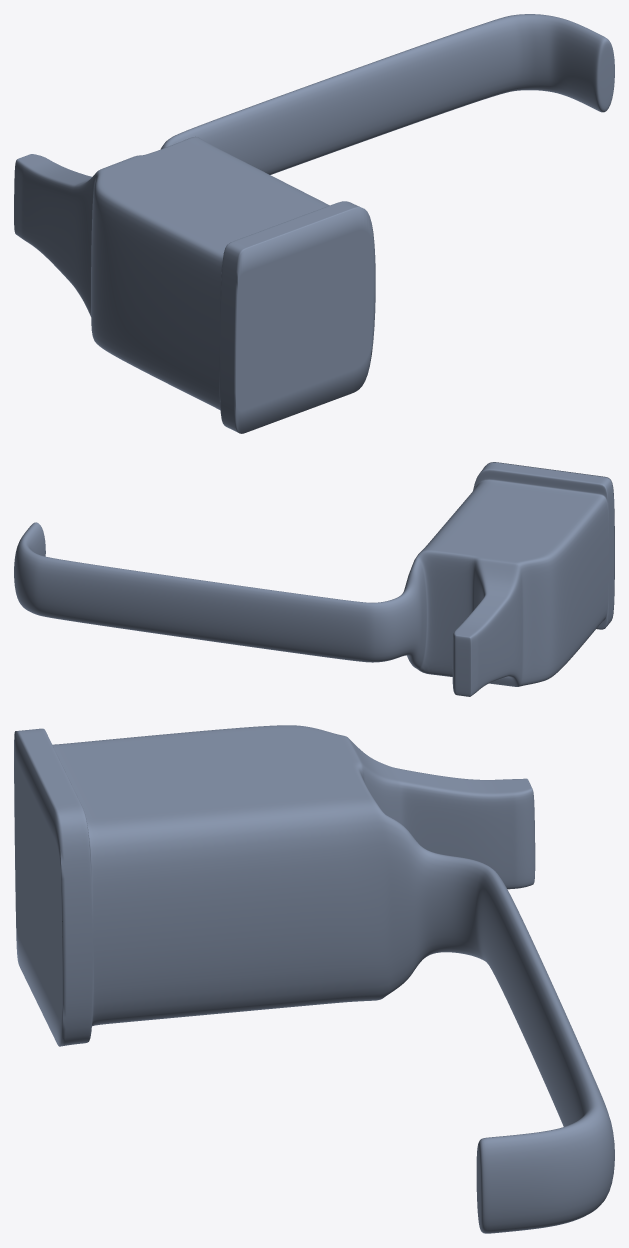
The picture shows the model from 3 angles, top to bottom: view 1: azimuth 30°, elevation 25°; view 2: azimuth 150°, elevation 25°; view 3: azimuth 270°, elevation 25°; orthographic projection. The views are drawn at different scales.
Parts seen in each view (by area): view 1: Cube.041; view 2: Cube.041; view 3: Cube.041.
Part boxes in pixels (left/top/right/bottom): Cube.041: left=14, top=14, right=614, bottom=433; Cube.041: left=14, top=462, right=614, bottom=696; Cube.041: left=14, top=725, right=614, bottom=1233.
Bounding box in the file's own units: 0.0519 × 0.0155 × 0.0357.
